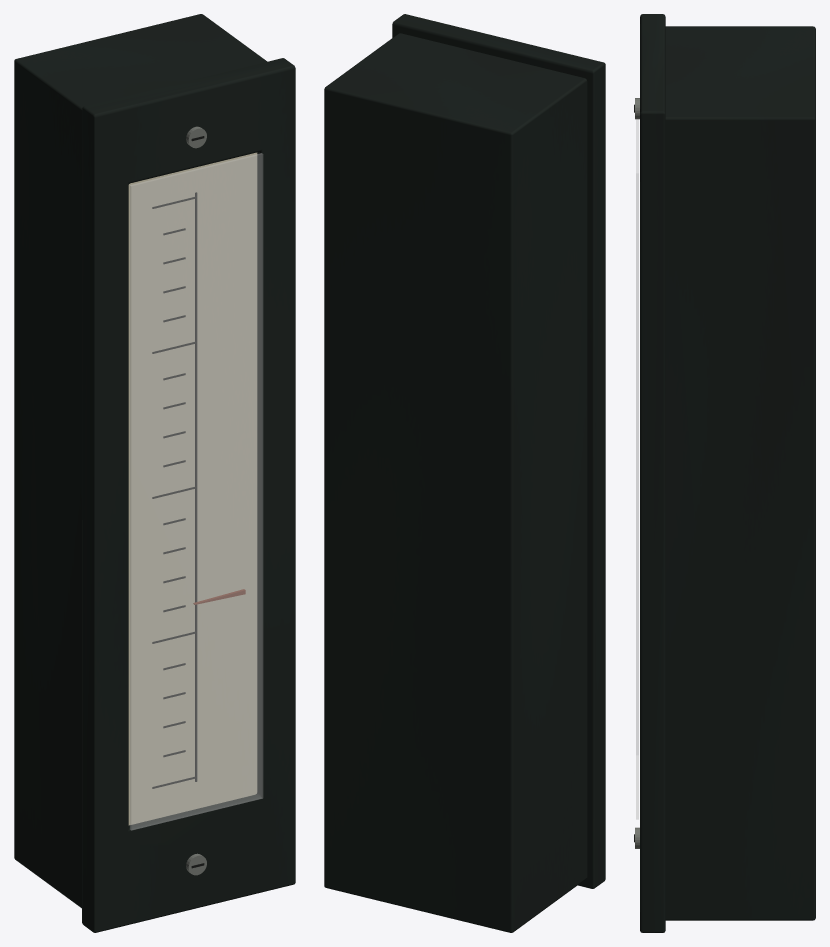
Rendered from linear_gauge_photo_refined.glb.
3 views of the same model, side by side, from view 1: azimuth 30°, elevation 25°; view 2: azimuth 150°, elevation 25°; view 3: azimuth 270°, elevation 25° (orthographic).
Visible parts, largest first — view 1: Fixed_Front_Frame, Fixed_Protective_Glass, Fixed_Scale_Window, Fixed_Rear_Housing, Fixed_Scale_Rail, Fixed_Scale_Printing; view 2: Fixed_Rear_Housing, Fixed_Front_Frame; view 3: Fixed_Rear_Housing, Fixed_Front_Frame, Fixed_Protective_Glass.
Boxes of the visible parts, <box> form: Fixed_Front_Frame: <box>82,58,295,932</box>; Fixed_Protective_Glass: <box>130,153,262,830</box>; Fixed_Scale_Window: <box>128,152,257,825</box>; Fixed_Rear_Housing: <box>14,14,266,908</box>; Fixed_Scale_Rail: <box>195,192,197,781</box>; Fixed_Scale_Printing: <box>152,196,196,788</box>; Fixed_Rear_Housing: <box>324,33,587,932</box>; Fixed_Front_Frame: <box>392,14,605,888</box>; Fixed_Rear_Housing: <box>665,26,815,920</box>; Fixed_Front_Frame: <box>640,14,665,932</box>; Fixed_Protective_Glass: <box>636,119,638,819</box>.
Size of the model in its own units: 0.046 by 0.178 by 0.0357.
Materials: 6 (2 with a texture image).
